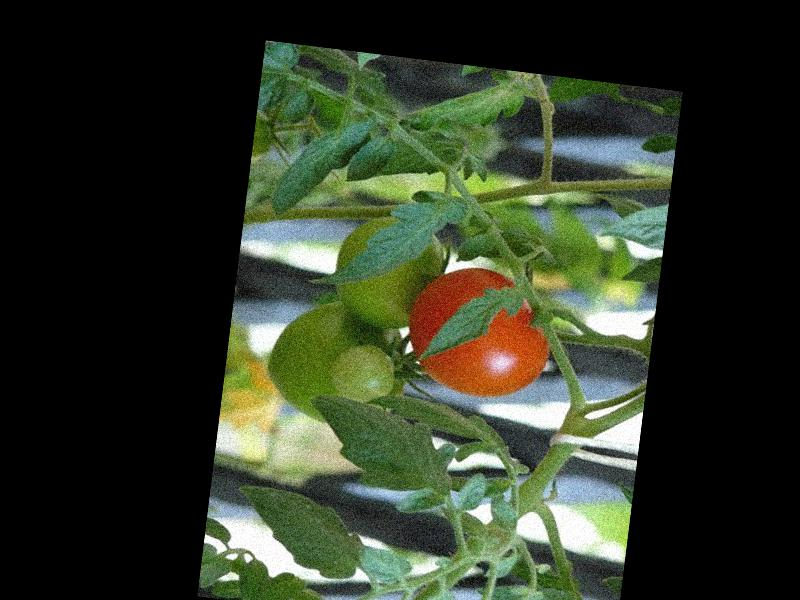Tomato: (403, 260, 558, 405)
